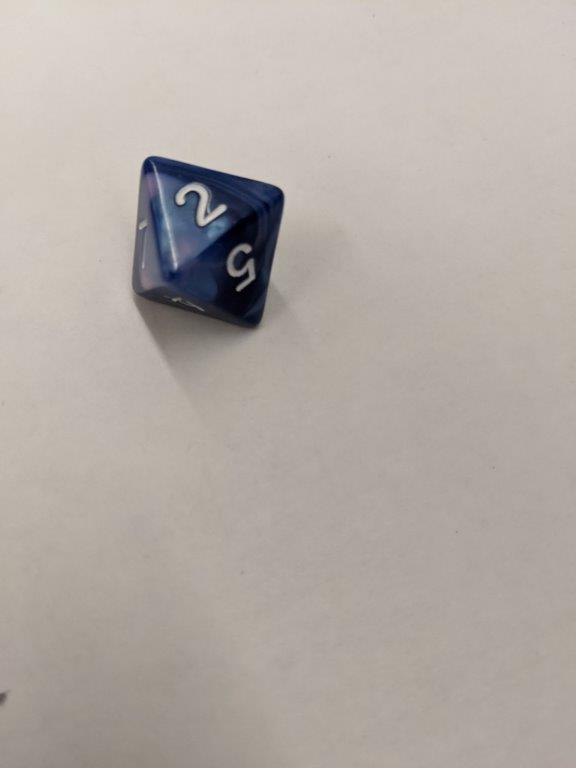d8-2: (131, 154, 288, 331)
